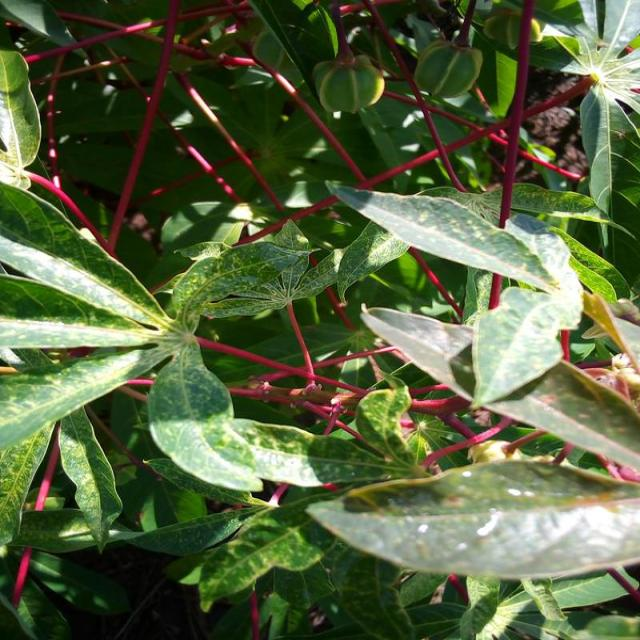cassava leaf: (304, 458, 639, 580), (324, 177, 584, 324)
